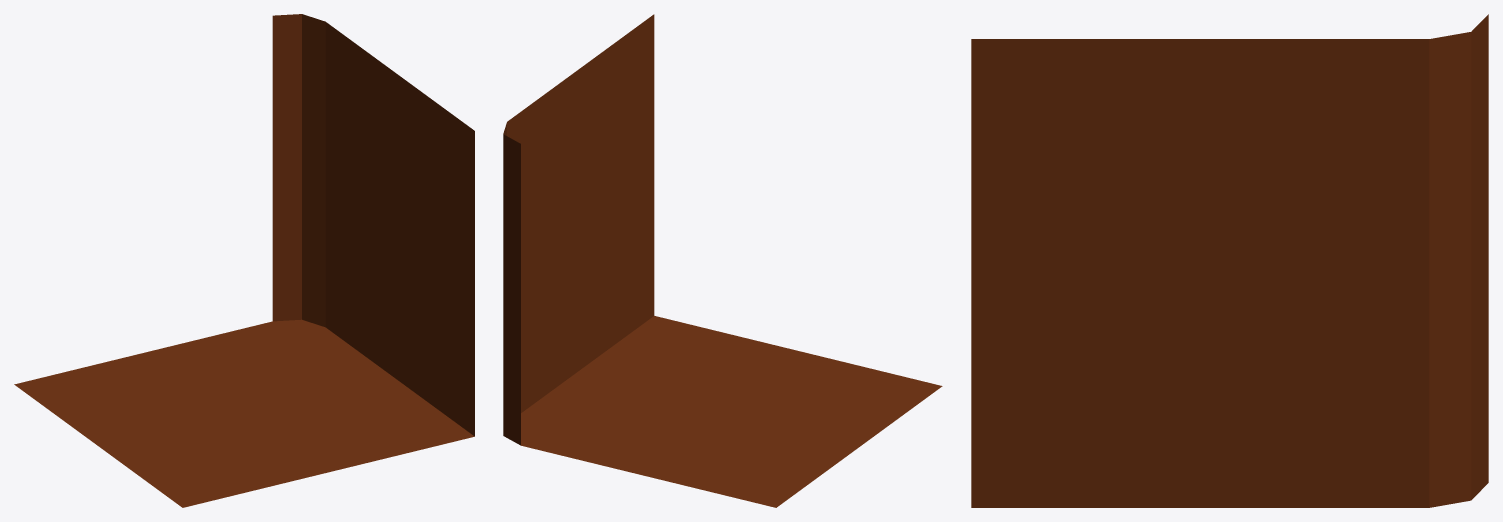
The model's file is RightRightDown.fbx.
3 views of the same model, side by side, from view 1: azimuth 30°, elevation 25°; view 2: azimuth 150°, elevation 25°; view 3: azimuth 270°, elevation 25° (orthographic). The views are drawn at different scales.
Parts seen in each view (by area): view 1: RightRightDown; view 2: RightRightDown; view 3: RightRightDown.
Part boxes in pixels (box(x1,y1,x2,y2)): RightRightDown: box(14, 14, 474, 507); RightRightDown: box(503, 14, 942, 507); RightRightDown: box(971, 14, 1488, 507).
Size of the model in its own units: 200 by 200 by 200.
